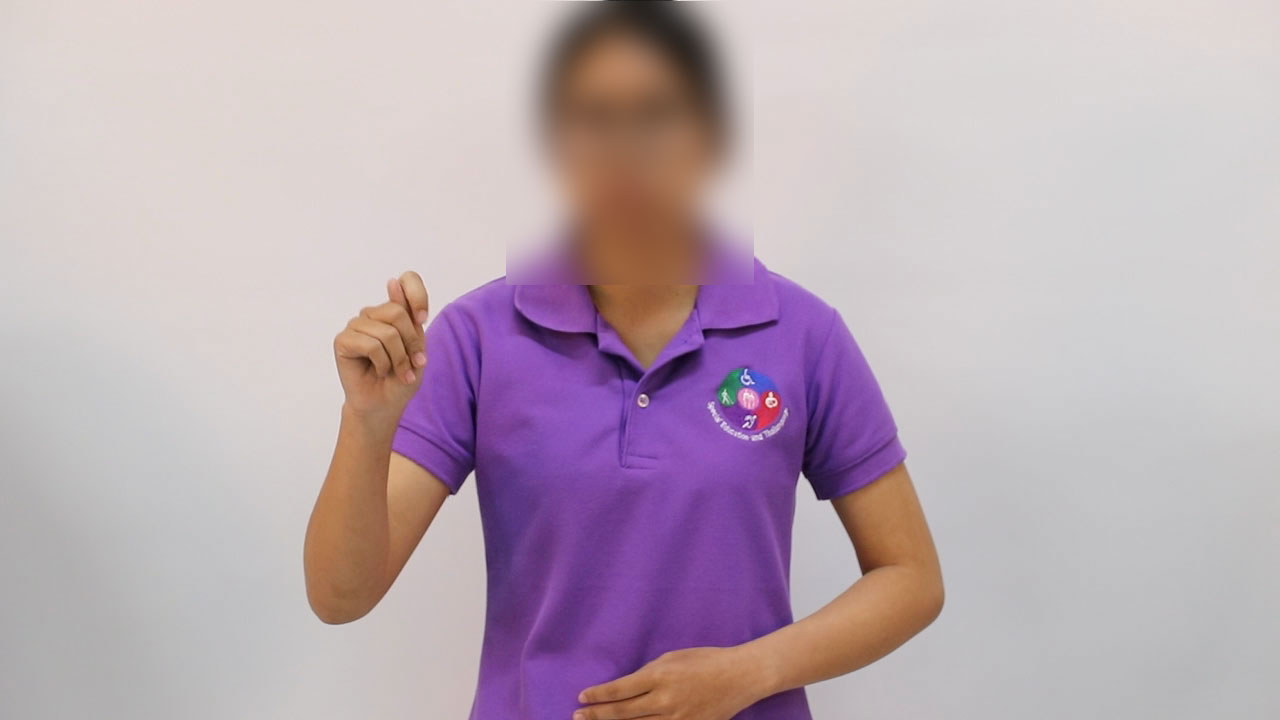tor: (312, 256, 455, 438)
